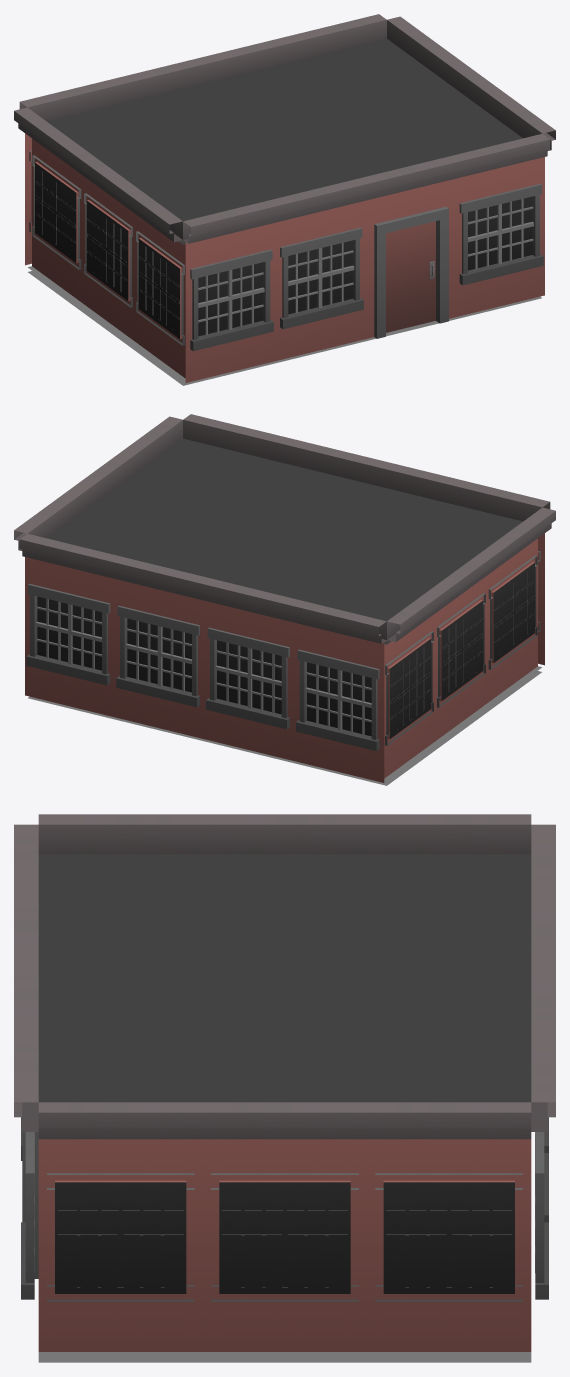
Rendered from crew-canteen.glb.
3 renders of one model, top to bottom at view 1: azimuth 30°, elevation 25°; view 2: azimuth 150°, elevation 25°; view 3: azimuth 270°, elevation 25°, orthographic. The views are drawn at different scales.
Visible parts, largest first — view 1: TreyIndustrialCrewCanteenVisual; view 2: TreyIndustrialCrewCanteenVisual; view 3: TreyIndustrialCrewCanteenVisual.
Part boxes in pixels (left/top/right/bottom): TreyIndustrialCrewCanteenVisual: left=14, top=14, right=555, bottom=385; TreyIndustrialCrewCanteenVisual: left=14, top=414, right=555, bottom=785; TreyIndustrialCrewCanteenVisual: left=14, top=814, right=555, bottom=1362.
Size of the model in its own units: 8.6 by 3.5 by 6.6.
Materials: 1 (1 with a texture image).
